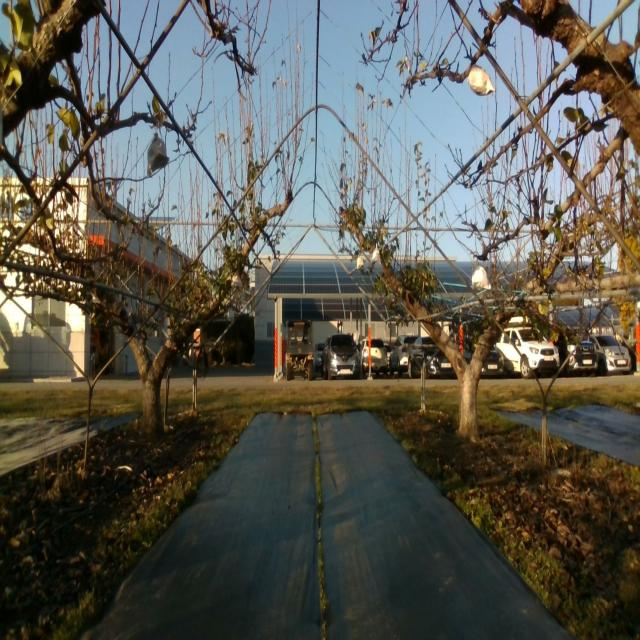pearbags: (146, 133, 170, 177), (467, 64, 494, 98), (472, 266, 492, 291)
